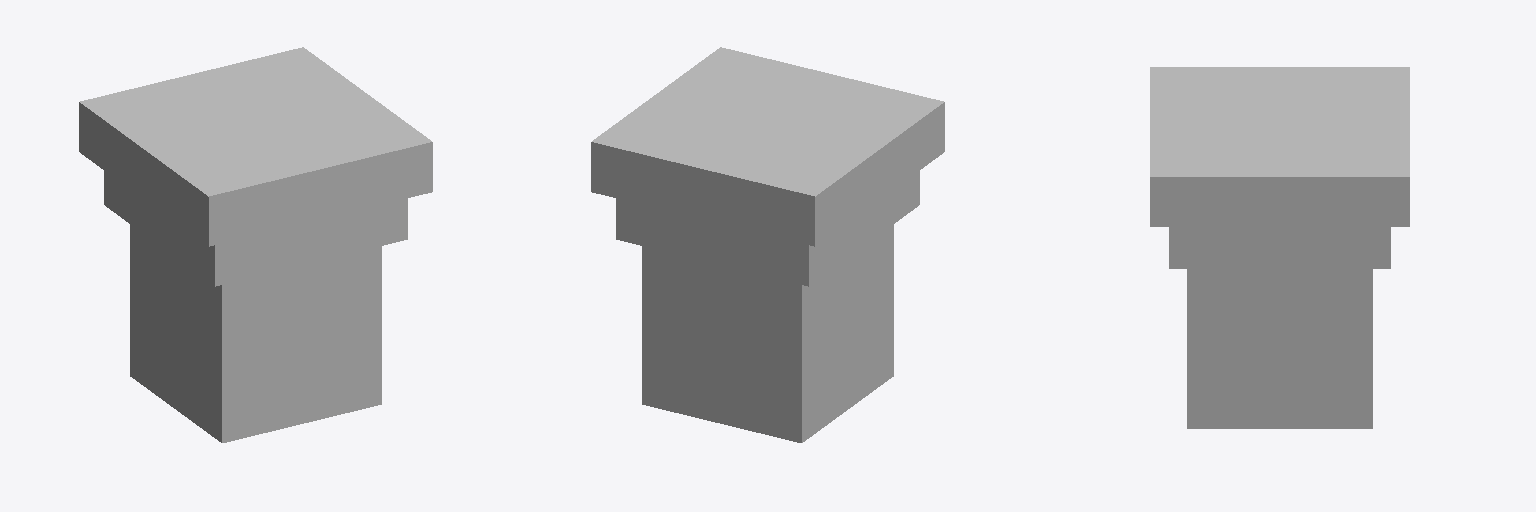
File: thelimit_thin_pillar_top.obj
3 views of the same model, side by side, from view 1: azimuth 30°, elevation 25°; view 2: azimuth 150°, elevation 25°; view 3: azimuth 270°, elevation 25° (orthographic).
Parts seen in each view (by area): view 1: cube.004; view 2: cube.004; view 3: cube.004.
Boxes of the visible parts, <box> form: cube.004: <box>79,47,432,442</box>; cube.004: <box>591,47,944,442</box>; cube.004: <box>1150,67,1409,428</box>.
Bounding box in the file's own units: 0.875 × 1 × 0.875.